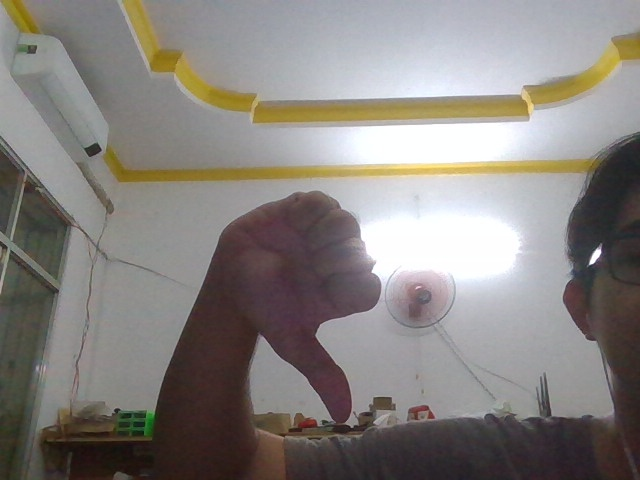thumb_down: (186, 179, 392, 431)
